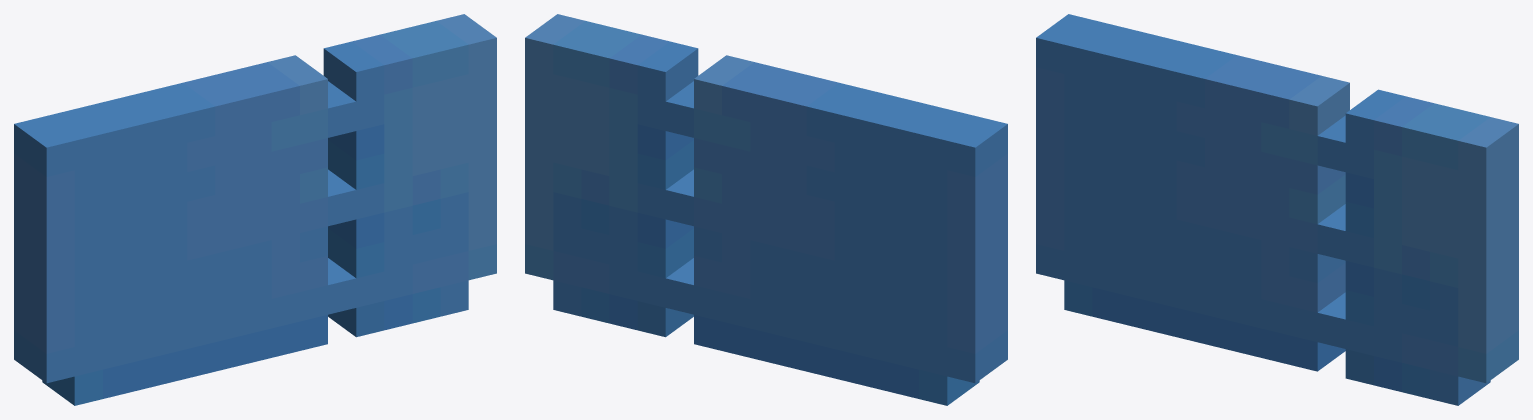
File: ticket-blue.glb
3 views of the same model, side by side, from view 1: azimuth 30°, elevation 25°; view 2: azimuth 150°, elevation 25°; view 3: azimuth 330°, elevation 25° (orthographic).
Visible parts, largest first — view 1: prop; view 2: prop; view 3: prop.
Part boxes in pixels (left/top/right/bottom): prop: left=14, top=14, right=496, bottom=405; prop: left=525, top=14, right=1007, bottom=405; prop: left=1036, top=14, right=1518, bottom=405.
Bounding box in the file's own units: 16 × 9 × 2.
